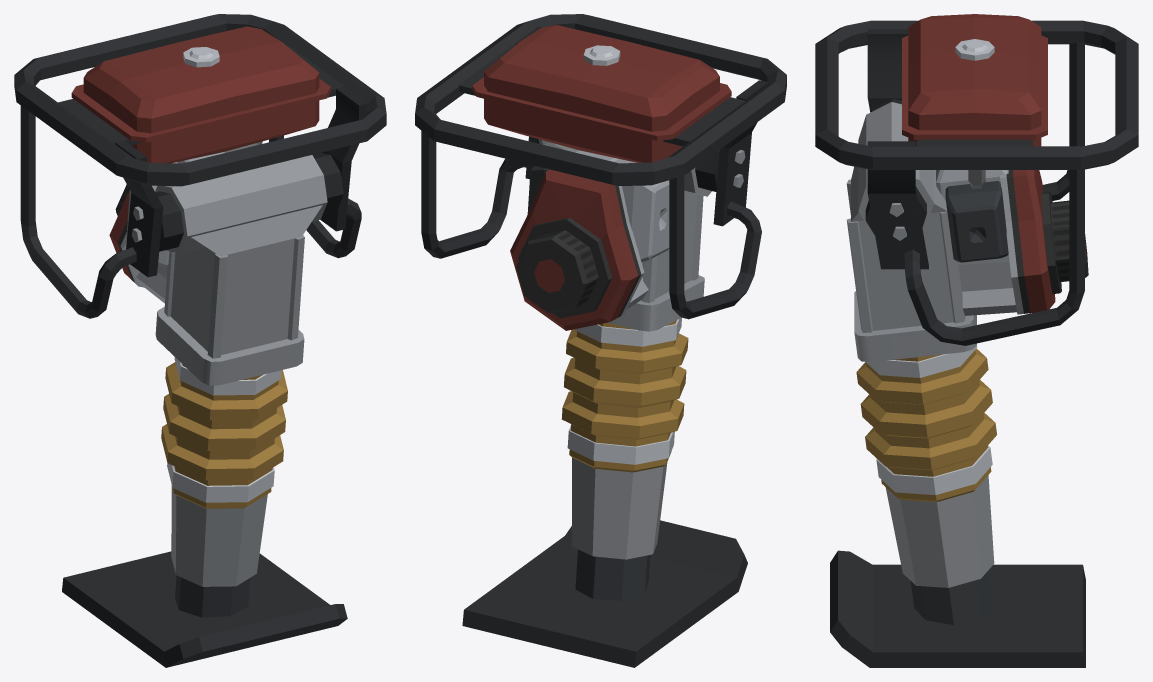
Rendered from SM_Prop_Compactor_02.fbx.
3 renders of one model, left to right at view 1: azimuth 30°, elevation 25°; view 2: azimuth 150°, elevation 25°; view 3: azimuth 270°, elevation 25°, orthographic. The views are drawn at different scales.
Visible parts, largest first — view 1: SM_Prop_Compactor_02; view 2: SM_Prop_Compactor_02; view 3: SM_Prop_Compactor_02.
Boxes of the visible parts, <box> form: SM_Prop_Compactor_02: <box>14,14,386,667</box>; SM_Prop_Compactor_02: <box>415,14,786,667</box>; SM_Prop_Compactor_02: <box>815,14,1138,667</box>.
Size of the model in its own units: 67.3 by 134 by 67.71.
